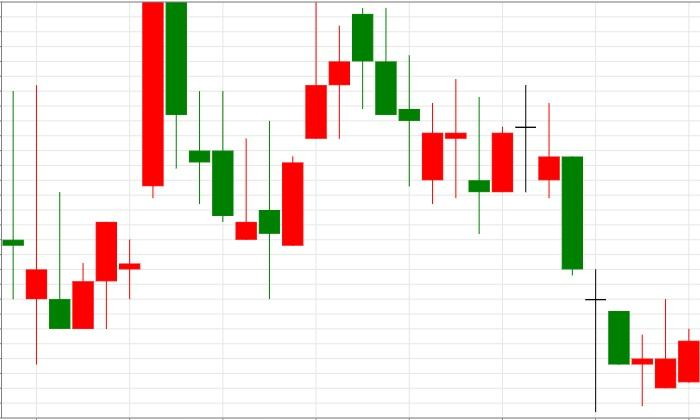inverse_hammer_rise: (515, 84, 677, 412), (2, 85, 71, 364)
three_white_soldiers_rise: (142, 3, 351, 299)
